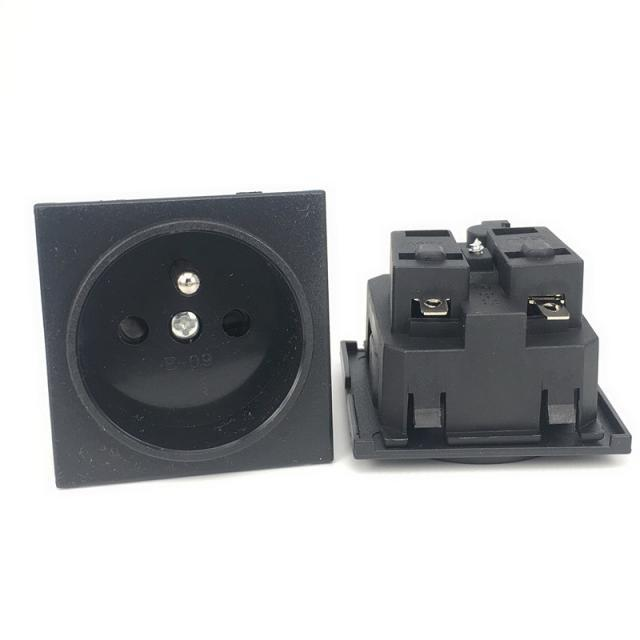typeb: (29, 171, 354, 520)
